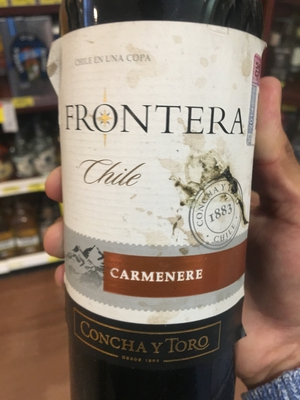frontera carmenere: (55, 8, 271, 399)
